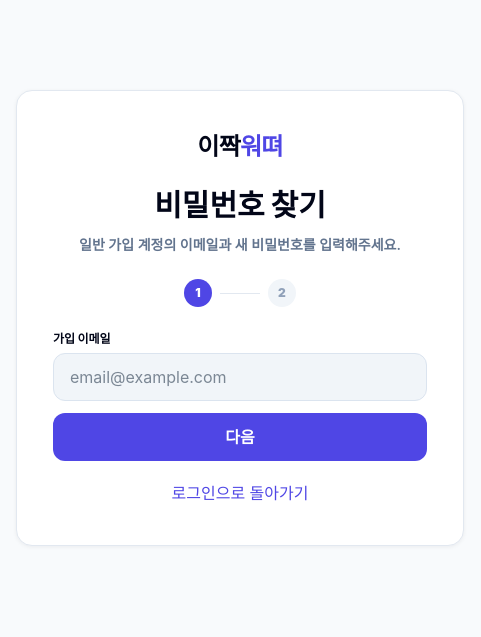
Test case: ForgotPasswordPage › shows email first and password fields after continuing
expect the form with test id "email-step" is shown: met, box [53,331,427,461]
Type "test@example.com" into the field labelled "가입 이메일" at (240, 377), box [53,353,427,401]
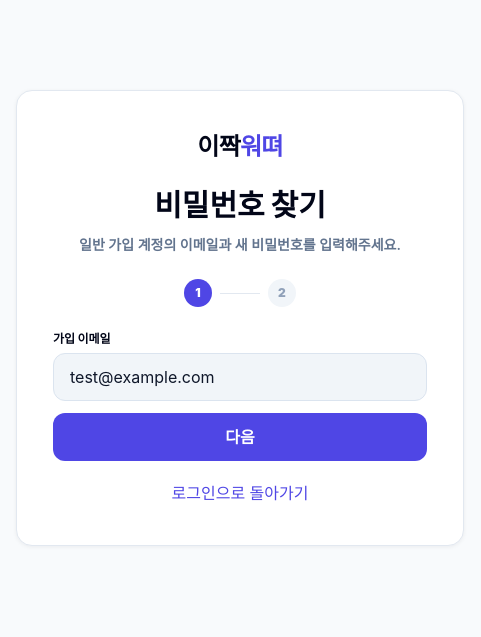
Click the button with test id "continue-button" at (240, 437), box [53,413,427,461]
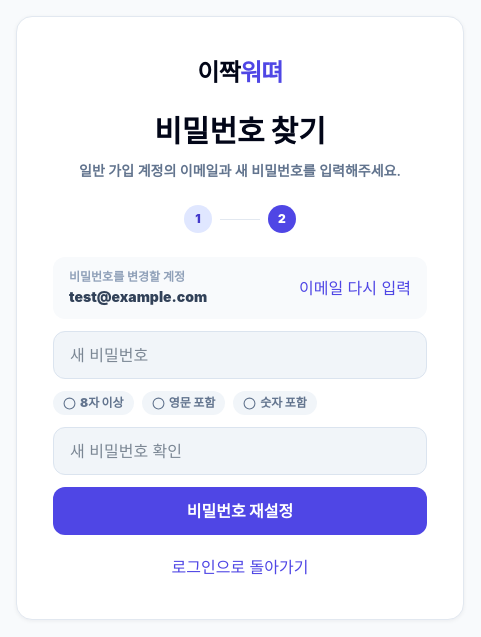
expect the form with test id "password-step" is shown: met, box [53,257,427,535]
expect the text "test@example.com" is shown: met, box [69,287,207,307]
